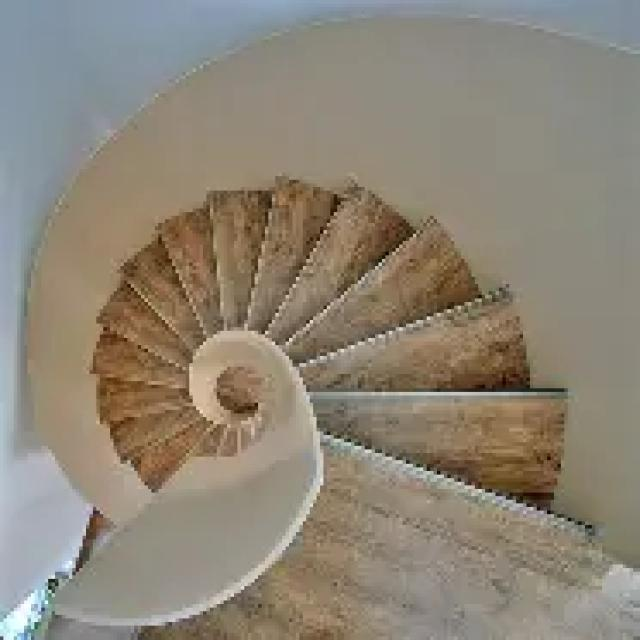Stairs: (94, 178, 610, 522)
